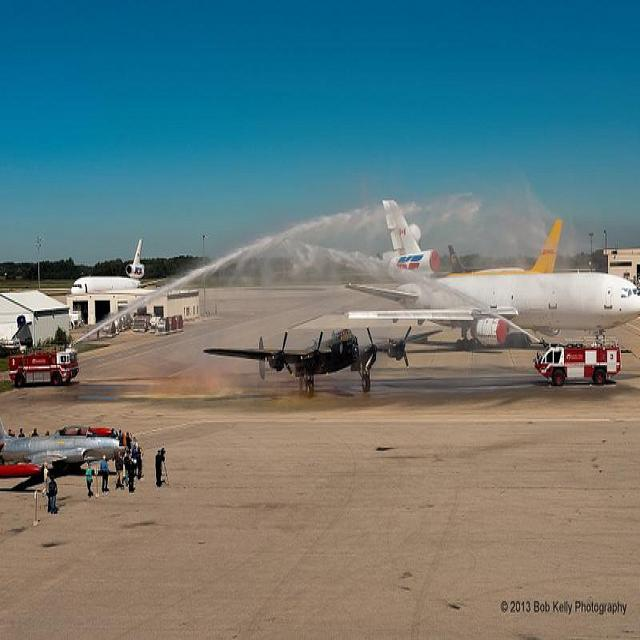Vehicle: (532, 336, 621, 386), (9, 352, 70, 388)
